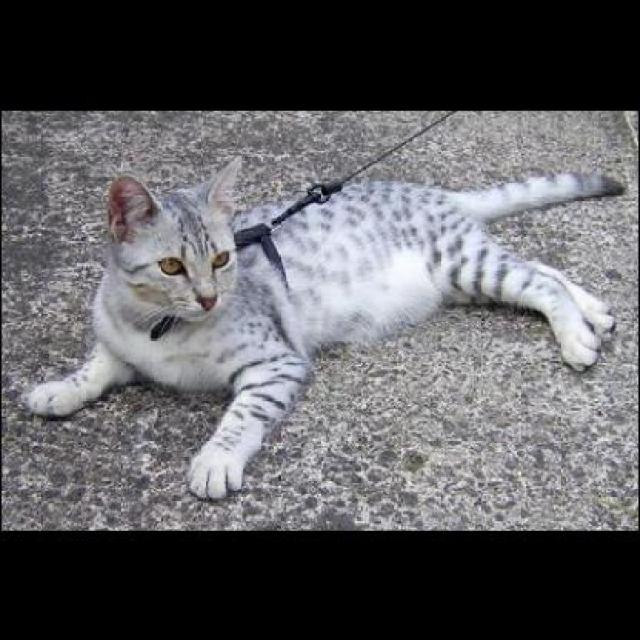unauthorized: (23, 155, 625, 500)
